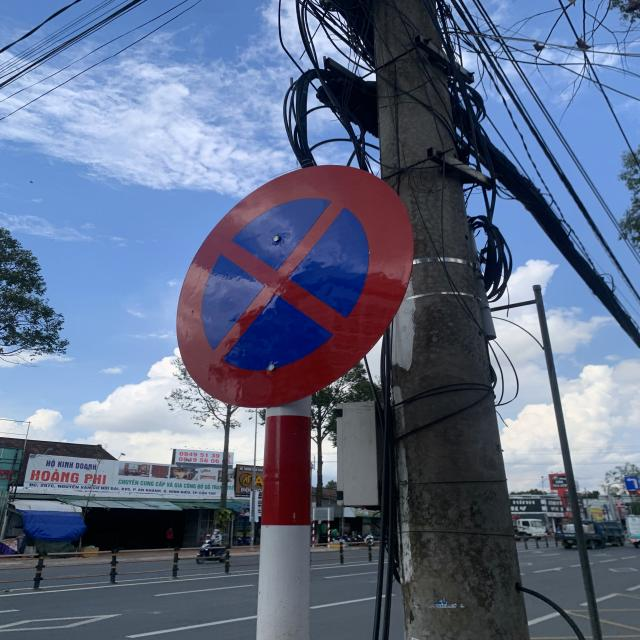Cam_Dung_Va_Dau_Xe: (176, 164, 416, 406)
